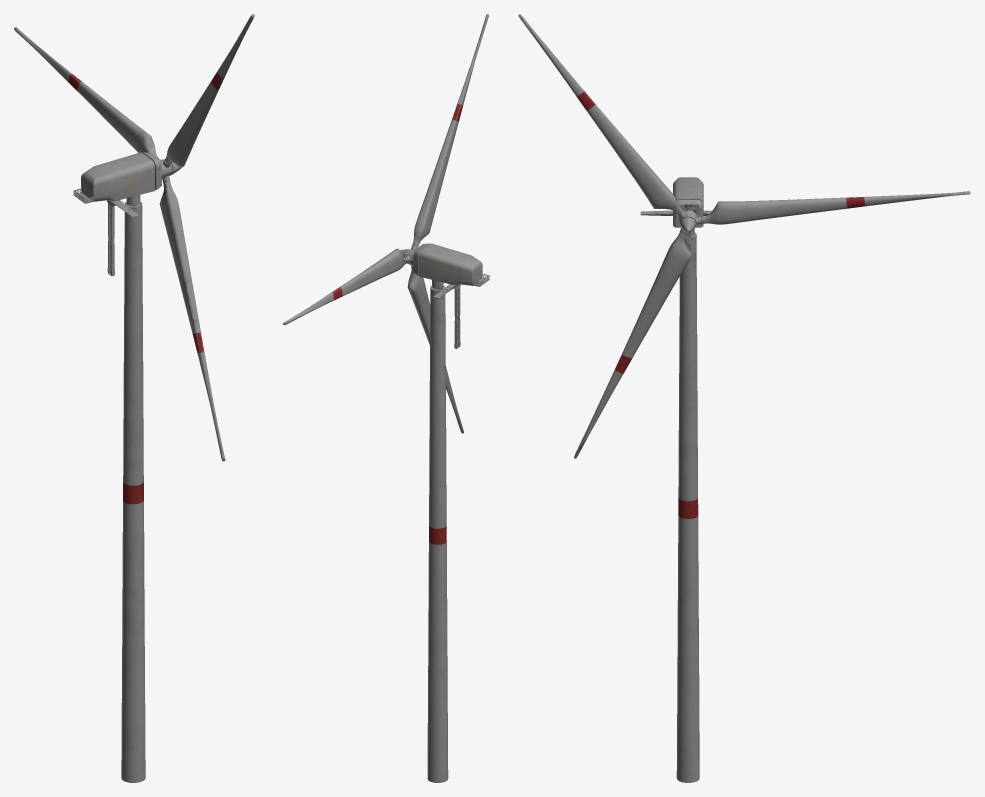
3 renders of one model, left to right at view 1: azimuth 30°, elevation 25°; view 2: azimuth 150°, elevation 25°; view 3: azimuth 270°, elevation 25°, orthographic. The views are drawn at different scales.
Parts seen in each view (by area): view 1: body, propeller, hull, hull piece, red; view 2: body, propeller, hull, hull piece; view 3: body, propeller, hull.
Part boxes in pixels (x1=…): body: x1=121, y1=195, x2=145, y2=782; propeller: x1=14, y1=14, x2=254, y2=461; hull: x1=81, y1=152, x2=161, y2=201; hull piece: x1=107, y1=200, x2=139, y2=276; red: x1=68, y1=72, x2=223, y2=352; body: x1=427, y1=280, x2=448, y2=782; propeller: x1=283, y1=14, x2=488, y2=433; hull: x1=413, y1=243, x2=482, y2=285; hull piece: x1=433, y1=284, x2=460, y2=348; body: x1=676, y1=229, x2=699, y2=782; propeller: x1=518, y1=14, x2=970, y2=458; hull: x1=673, y1=177, x2=703, y2=227.
Bounding box in the file's own units: 13.75 × 103 × 54.06.
Materials: 2 (2 with a texture image).
